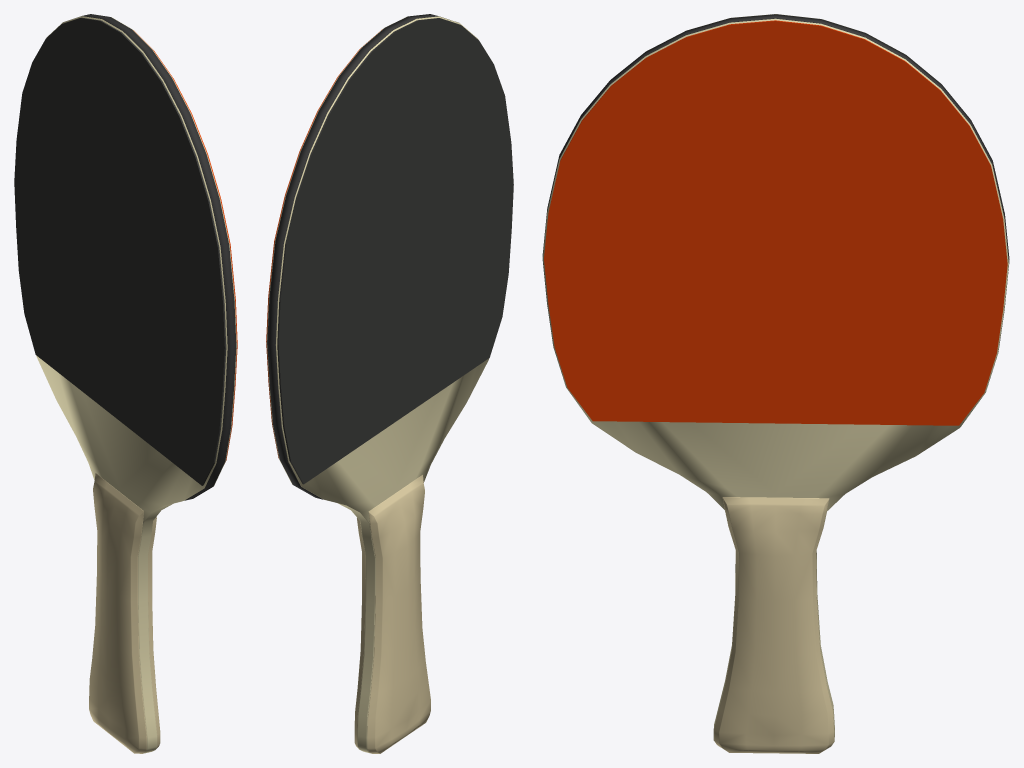
Rendered from paddle_rotated.dae.
3 views of the same model, side by side, from view 1: azimuth 30°, elevation 25°; view 2: azimuth 150°, elevation 25°; view 3: azimuth 270°, elevation 25° (orthographic). The views are drawn at different scales.
Visible parts, largest first — view 1: Circle.003, Circle.001, Circle, Circle.004, Circle.002; view 2: Circle.003, Circle.001, Circle, Circle.004, Circle.002; view 3: Circle.002, Circle.001, Circle, Circle.004.
Part boxes in pixels (left/top/right/bottom): Circle.003: left=14, top=17, right=226, bottom=485; Circle.001: left=89, top=473, right=160, bottom=753; Circle: left=36, top=16, right=236, bottom=753; Circle.004: left=81, top=14, right=236, bottom=500; Circle.002: left=133, top=30, right=237, bottom=462; Circle.003: left=277, top=18, right=513, bottom=484; Circle.001: left=354, top=475, right=430, bottom=753; Circle: left=266, top=16, right=489, bottom=753; Circle.004: left=267, top=14, right=458, bottom=499; Circle.002: left=266, top=30, right=381, bottom=458; Circle.002: left=544, top=20, right=1007, bottom=425; Circle.001: left=714, top=497, right=834, bottom=753; Circle: left=542, top=14, right=1008, bottom=741; Circle.004: left=542, top=14, right=1009, bottom=392.
Size of the model in its own units: 0.0129 by 0.1466 by 0.254.
